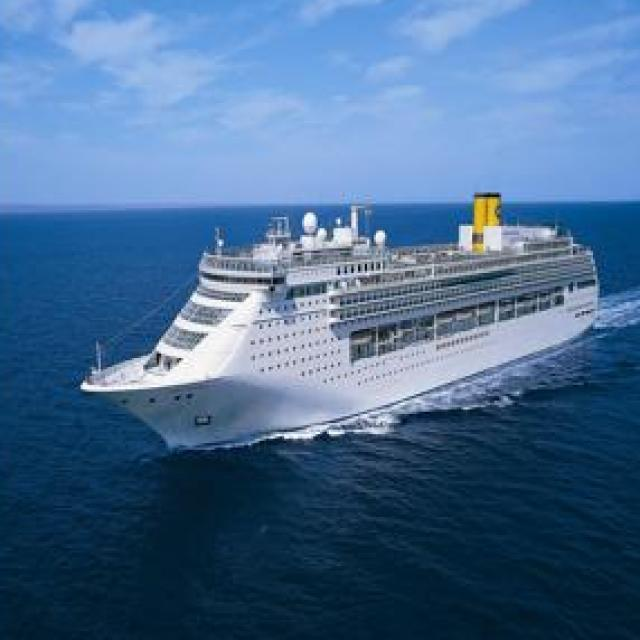passenger ship: (78, 174, 617, 449)
